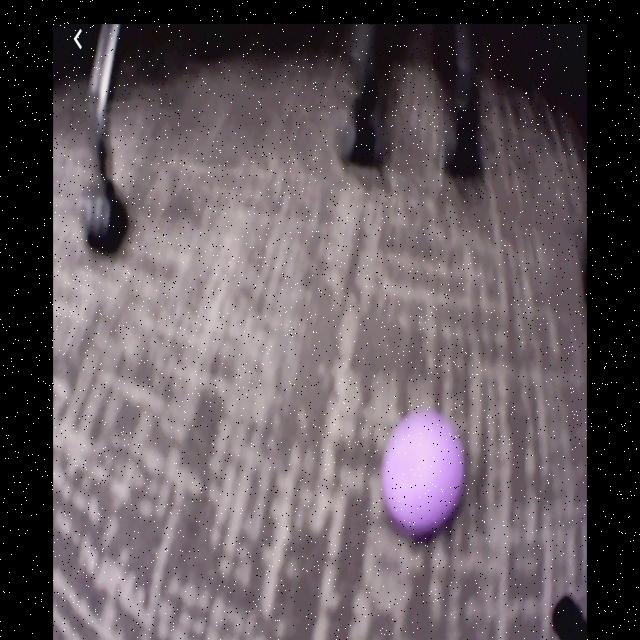ball: (383, 411, 466, 532)
